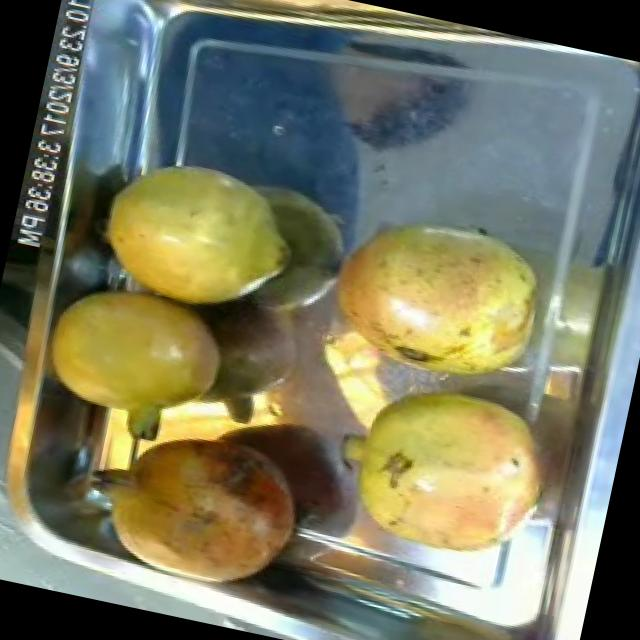fruit: (312, 357, 580, 586), (309, 188, 566, 404), (77, 404, 325, 612), (21, 262, 252, 470), (81, 138, 319, 332)
